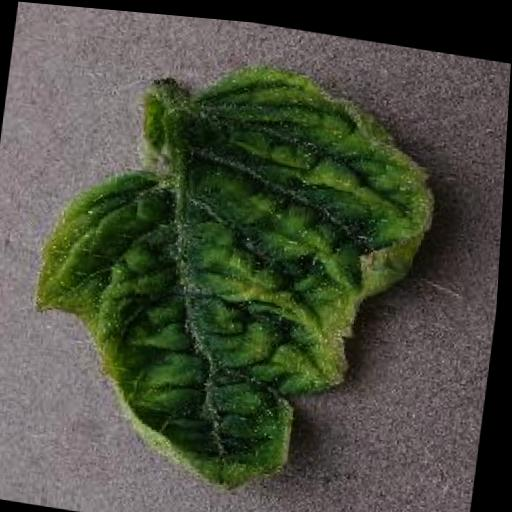Yellow Leaf Curl Virus: (20, 32, 448, 512)
